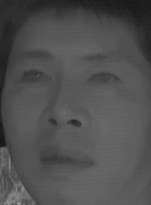eye: (83, 69, 125, 90), (18, 66, 52, 89)
mouth: (30, 139, 98, 179)
